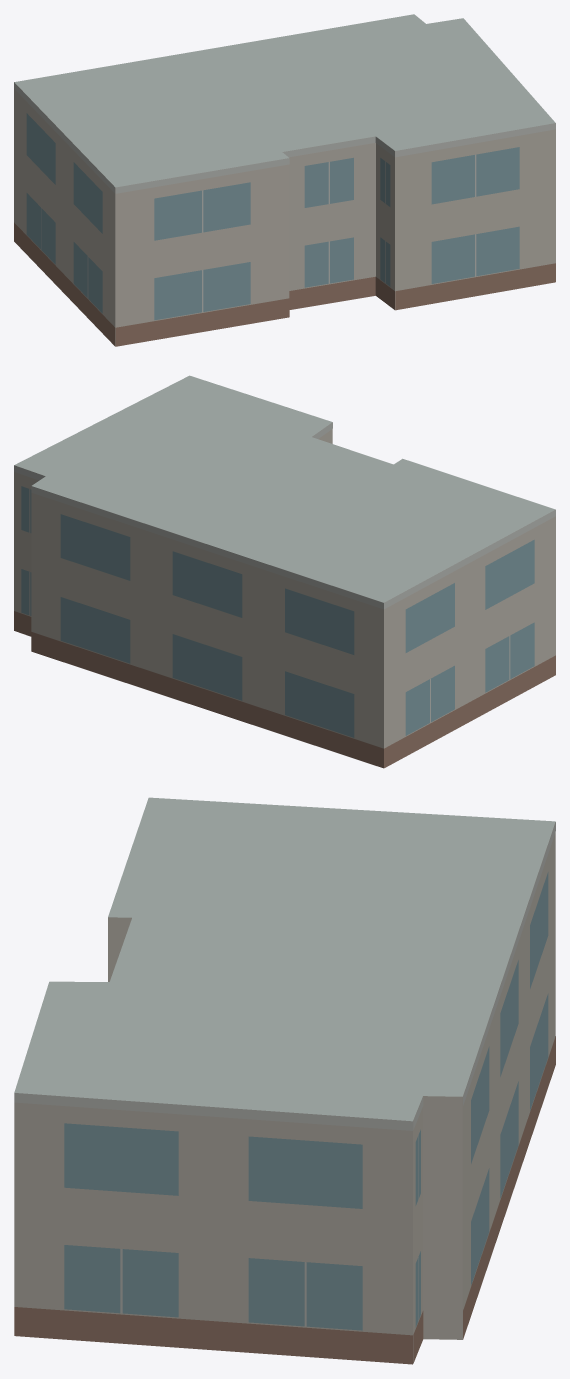
Rendered from survey-upis-32602088.glb.
The picture shows the model from 3 angles, top to bottom: view 1: azimuth 30°, elevation 25°; view 2: azimuth 150°, elevation 25°; view 3: azimuth 270°, elevation 25°; orthographic projection. The views are drawn at different scales.
Visible parts, largest first — view 1: survey-upis-32602088.tmp; view 2: survey-upis-32602088.tmp; view 3: survey-upis-32602088.tmp.
Boxes of the visible parts, <box> form: survey-upis-32602088.tmp: <box>14,14,555,346</box>; survey-upis-32602088.tmp: <box>14,375,555,768</box>; survey-upis-32602088.tmp: <box>14,797,555,1364</box>.
Size of the model in its own units: 17.43 by 6.1 by 12.33.
